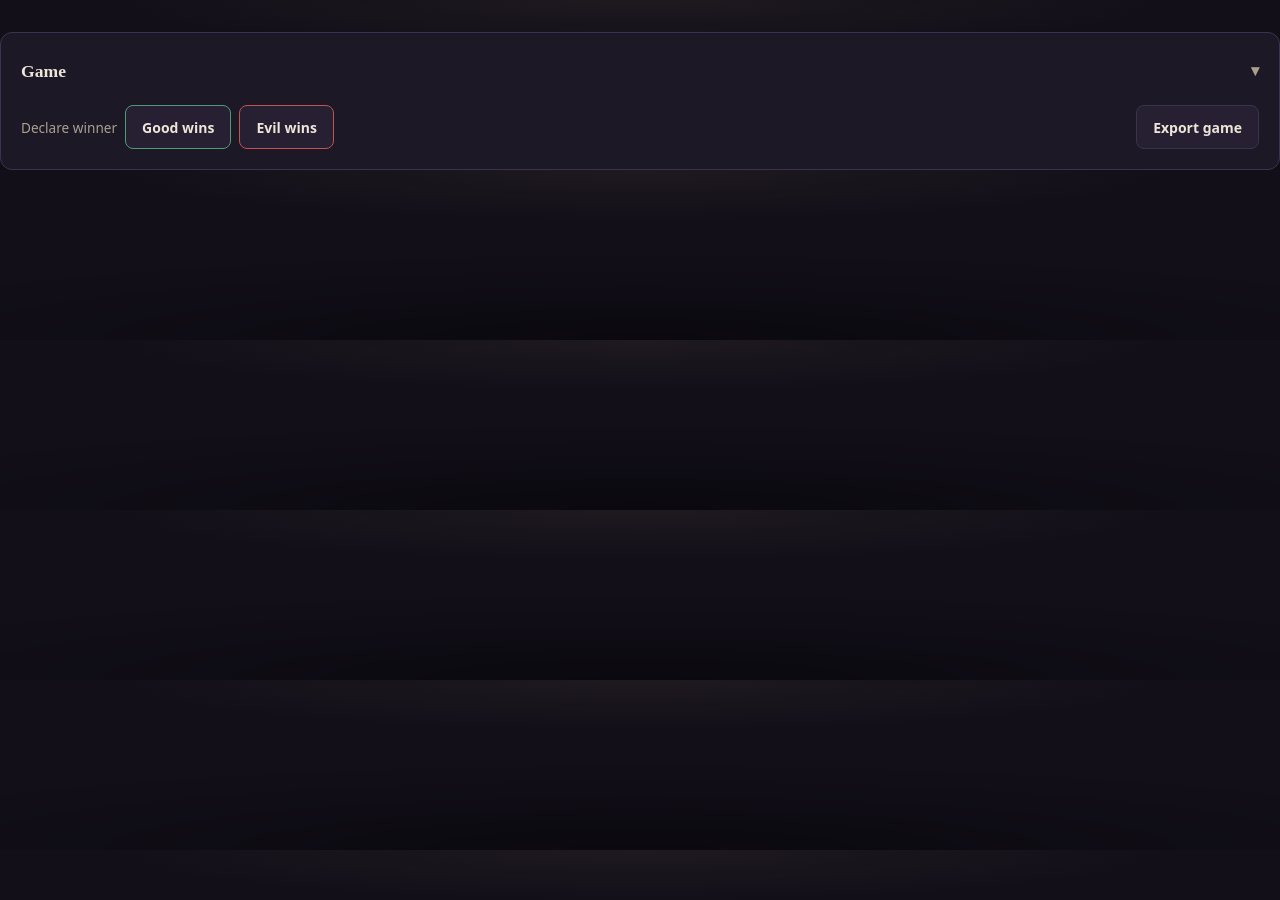
Test case: EndGamePanel › cancels a pending winner declaration without changing the game
Click the button "Evil wins": (287, 127) 240,105 -> 334,149
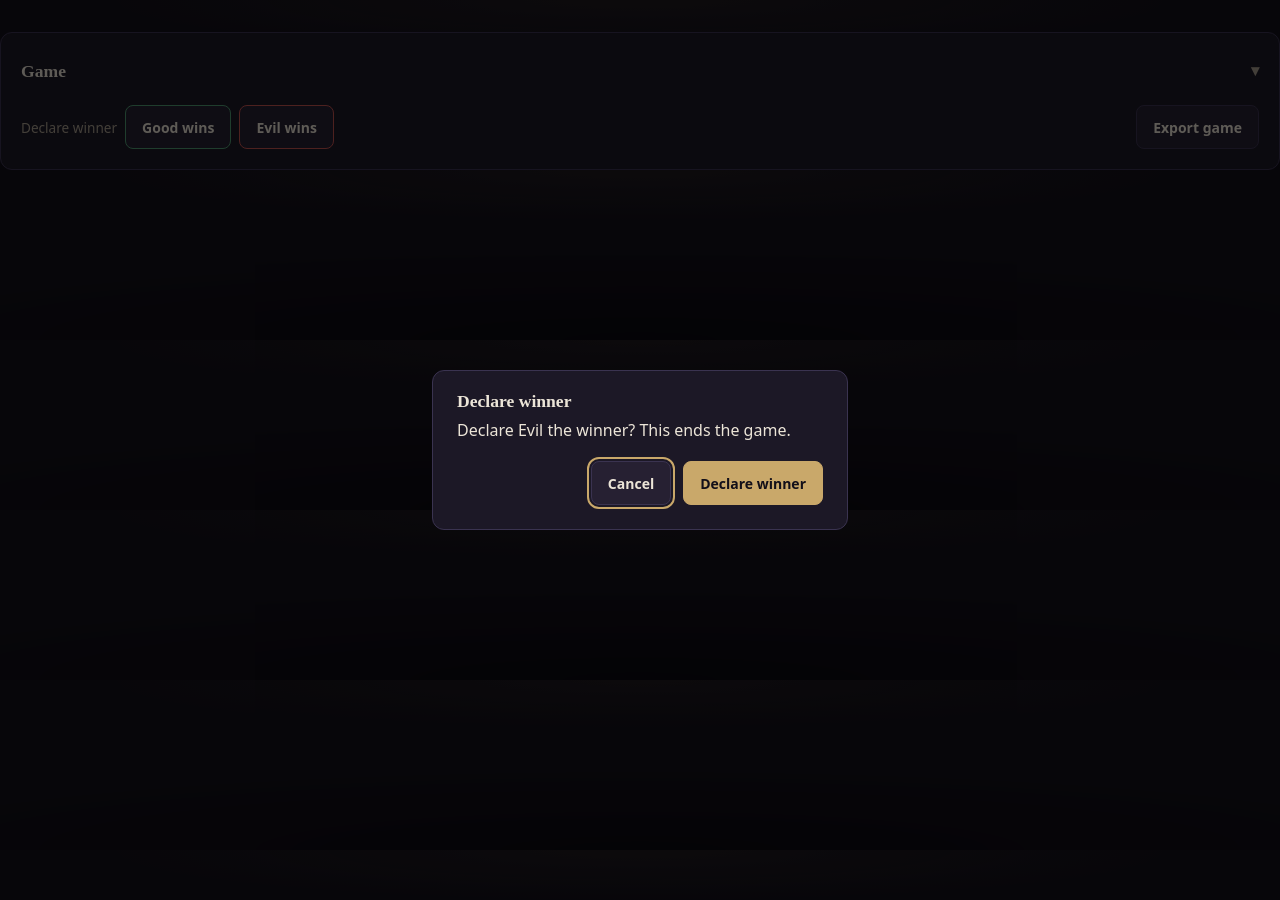
Click the button "Cancel": (631, 483) 591,461 -> 671,505
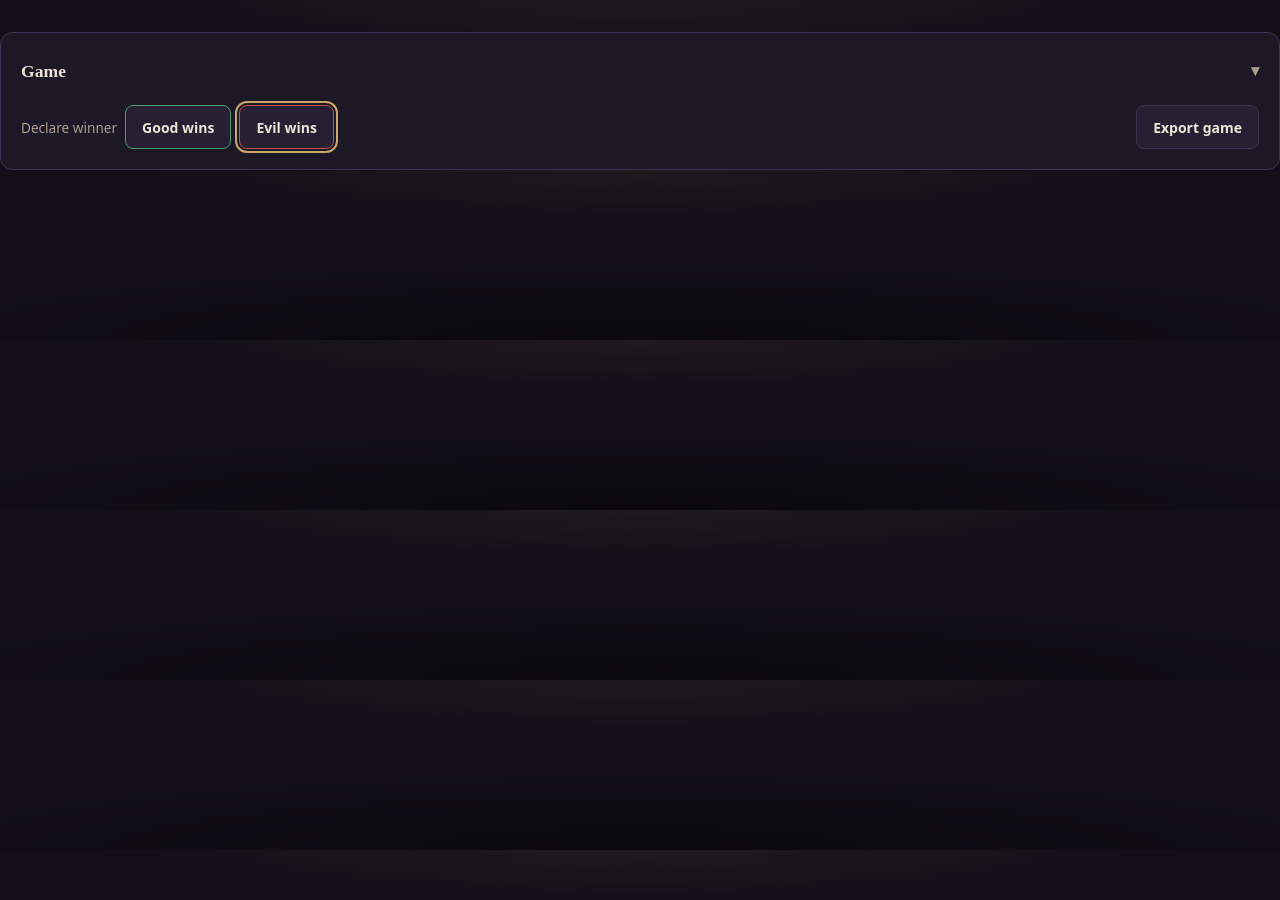
Result: the dialog is gone
